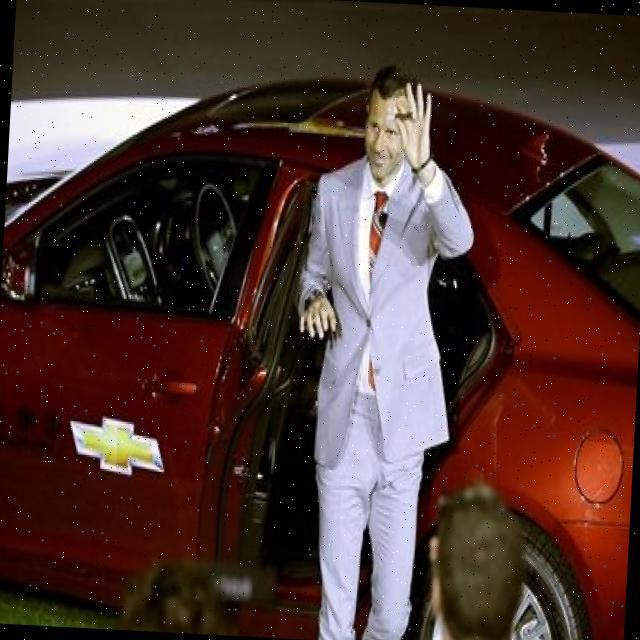Chevrolet: (66, 414, 165, 478)
